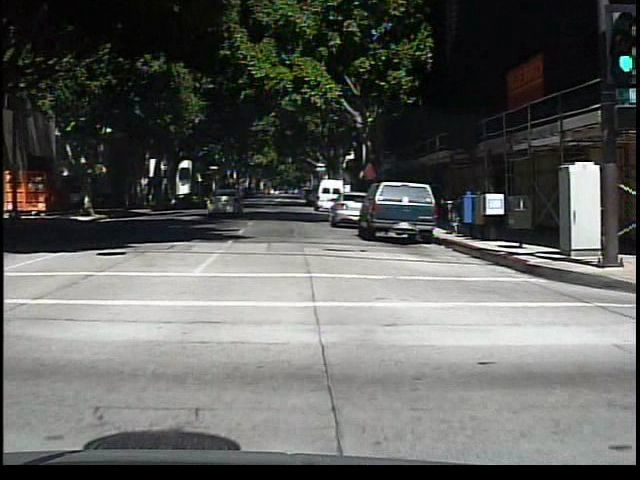person: (70, 184, 86, 219)
